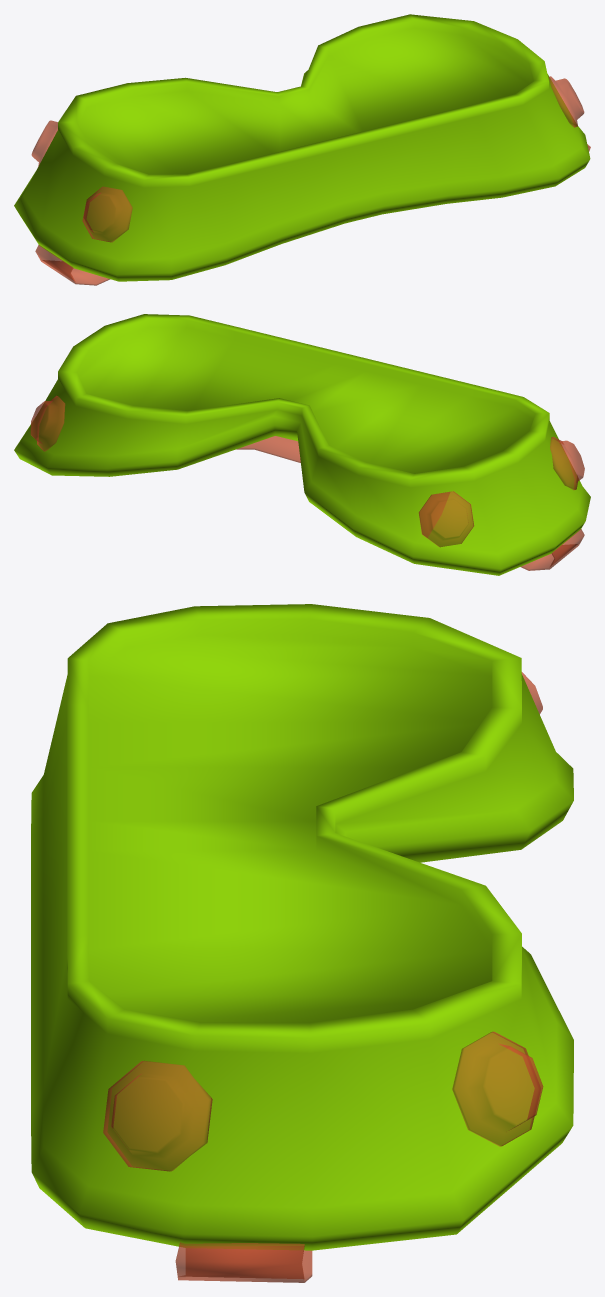
File: SPP_MOD_Safety_goggles.fbx
The picture shows the model from 3 angles, top to bottom: view 1: azimuth 30°, elevation 25°; view 2: azimuth 150°, elevation 25°; view 3: azimuth 270°, elevation 25°; orthographic projection. The views are drawn at different scales.
Parts seen in each view (by area): view 1: SPP_MOD_Safety_goggles; view 2: SPP_MOD_Safety_goggles; view 3: SPP_MOD_Safety_goggles.
Part boxes in pixels (bbox=[...]): SPP_MOD_Safety_goggles: bbox=[14, 14, 590, 285]; SPP_MOD_Safety_goggles: bbox=[14, 314, 590, 575]; SPP_MOD_Safety_goggles: bbox=[31, 604, 573, 1282].
Bounding box in the file's own units: 0.2027 × 0.0416 × 0.0908.
